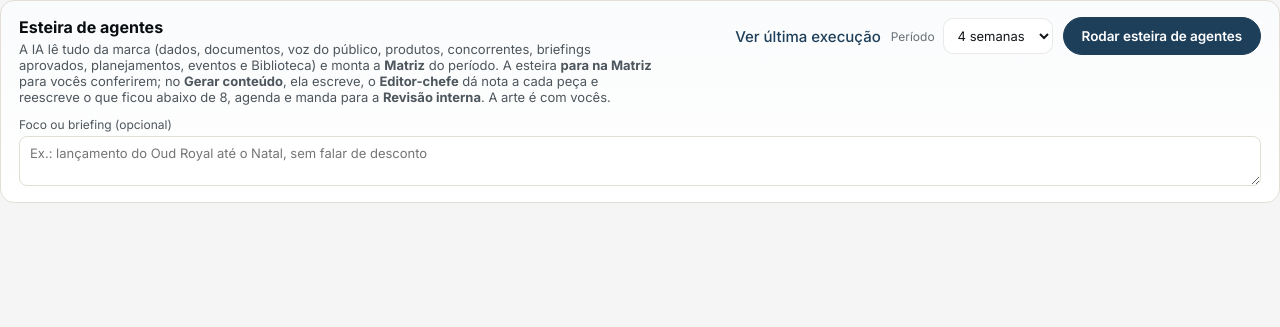
Test case: Esteira de agentes › execução concluída mostra o resumo
The image size is (1280, 327).
Click the button "Ver última execução" at {"x": 808, "y": 36}, box x1=735 y1=26 x2=881 y2=46
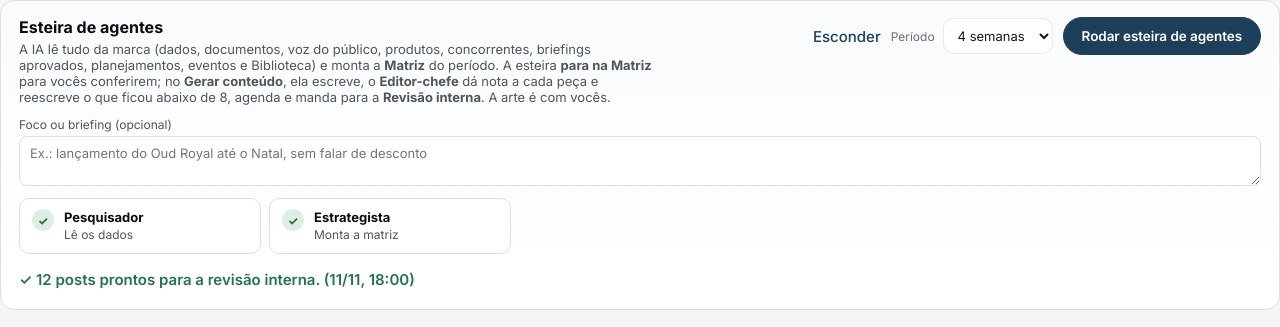
Result: the text "12 posts prontos para a revisão interna." is shown at x1=36 y1=270 x2=320 y2=289
